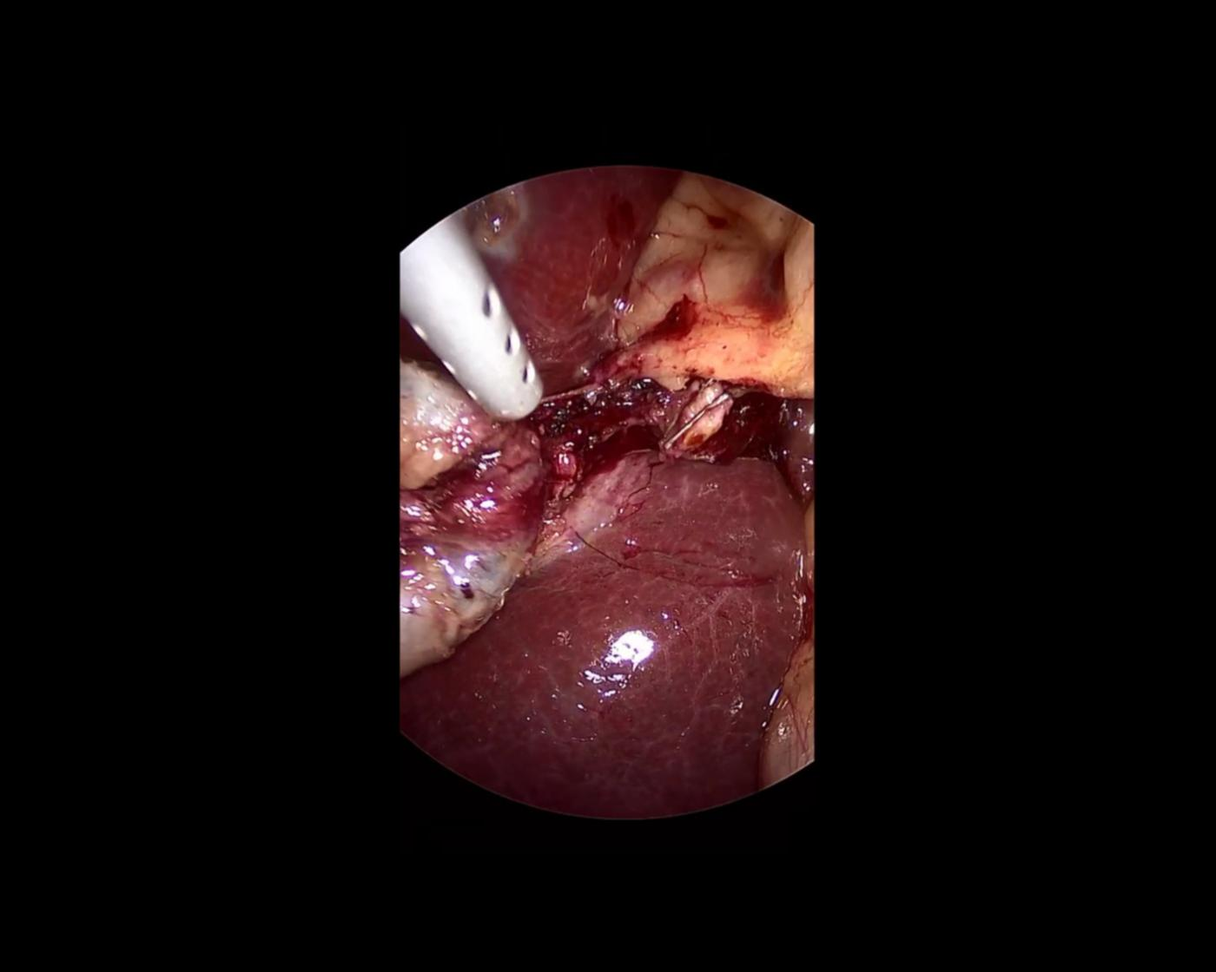Gallbladder: (400, 358, 545, 675)
Liver: (387, 418, 817, 839), (460, 141, 727, 402)
Suction: (373, 211, 552, 442)
